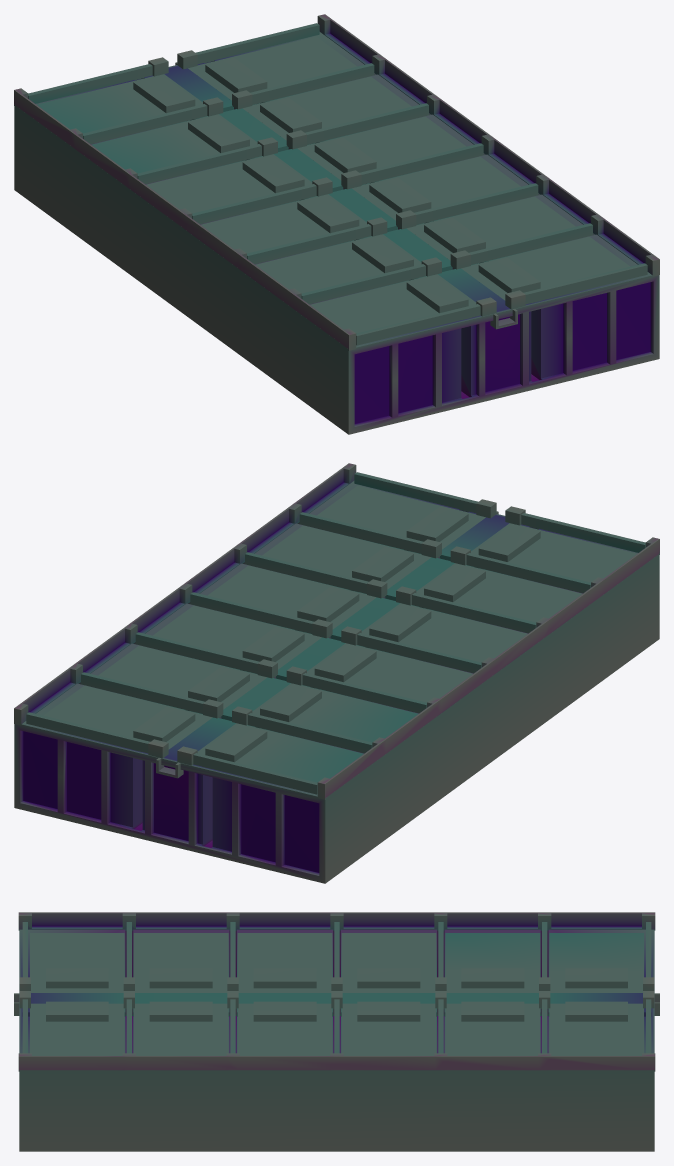
File: simready-electricalSystem_battery_d01.glb
3 renders of one model, top to bottom at view 1: azimuth 30°, elevation 25°; view 2: azimuth 150°, elevation 25°; view 3: azimuth 270°, elevation 25°, orthographic. The views are drawn at different scales.
Parts seen in each view (by area): view 1: body, rail, rail.001, plate.001, plate.006, plate.005, plate.012, plate.003, plate.011, plate.002, plate.004, plate.007 (+40 smaller); view 2: body, rail, rail.001, plate.006, plate.001, plate.002, plate.004, plate.012, plate.005, plate.003, plate.007, plate.011 (+40 smaller); view 3: body, rail.001, rail, plate.007, plate.012, plate.008, plate.011, plate.009, plate.010, plate.002, plate.004, plate.005 (+28 smaller).
Boxes of the visible parts, box(x1,y1,x2,y2) form: body: box(14, 32, 659, 434); rail: box(317, 14, 659, 276); rail.001: box(14, 88, 356, 350); plate.001: box(505, 236, 629, 287); plate.006: box(232, 36, 356, 87); plate.005: box(286, 76, 411, 126); plate.012: box(37, 84, 159, 133); plate.003: box(400, 156, 520, 206); plate.011: box(91, 124, 210, 173); plate.002: box(454, 196, 575, 246); plate.004: box(345, 116, 465, 166); plate.007: box(310, 285, 429, 333); body: box(14, 481, 659, 883); rail: box(14, 463, 356, 725); rail.001: box(317, 537, 659, 799); plate.006: box(44, 685, 168, 736); plate.001: box(317, 485, 441, 536); plate.002: box(262, 525, 387, 575); plate.004: box(153, 605, 273, 656); plate.012: box(240, 734, 363, 782); plate.005: box(98, 645, 219, 695); plate.003: box(208, 565, 328, 615); plate.007: box(514, 534, 636, 582); plate.011: box(299, 694, 418, 742); body: box(19, 929, 654, 1151); rail.001: box(18, 912, 655, 930); rail: box(18, 1053, 655, 1071); plate.007: box(30, 933, 124, 972); plate.012: box(549, 933, 643, 972); plate.008: box(133, 933, 228, 970); plate.011: box(445, 933, 540, 970); plate.009: box(237, 933, 332, 970); plate.010: box(341, 933, 436, 970); plate.002: box(133, 1024, 228, 1055); plate.004: box(341, 1024, 436, 1055); plate.005: box(445, 1024, 540, 1055).
Bounding box in the file's own units: 0.5148 × 0.1578 × 0.9746.
